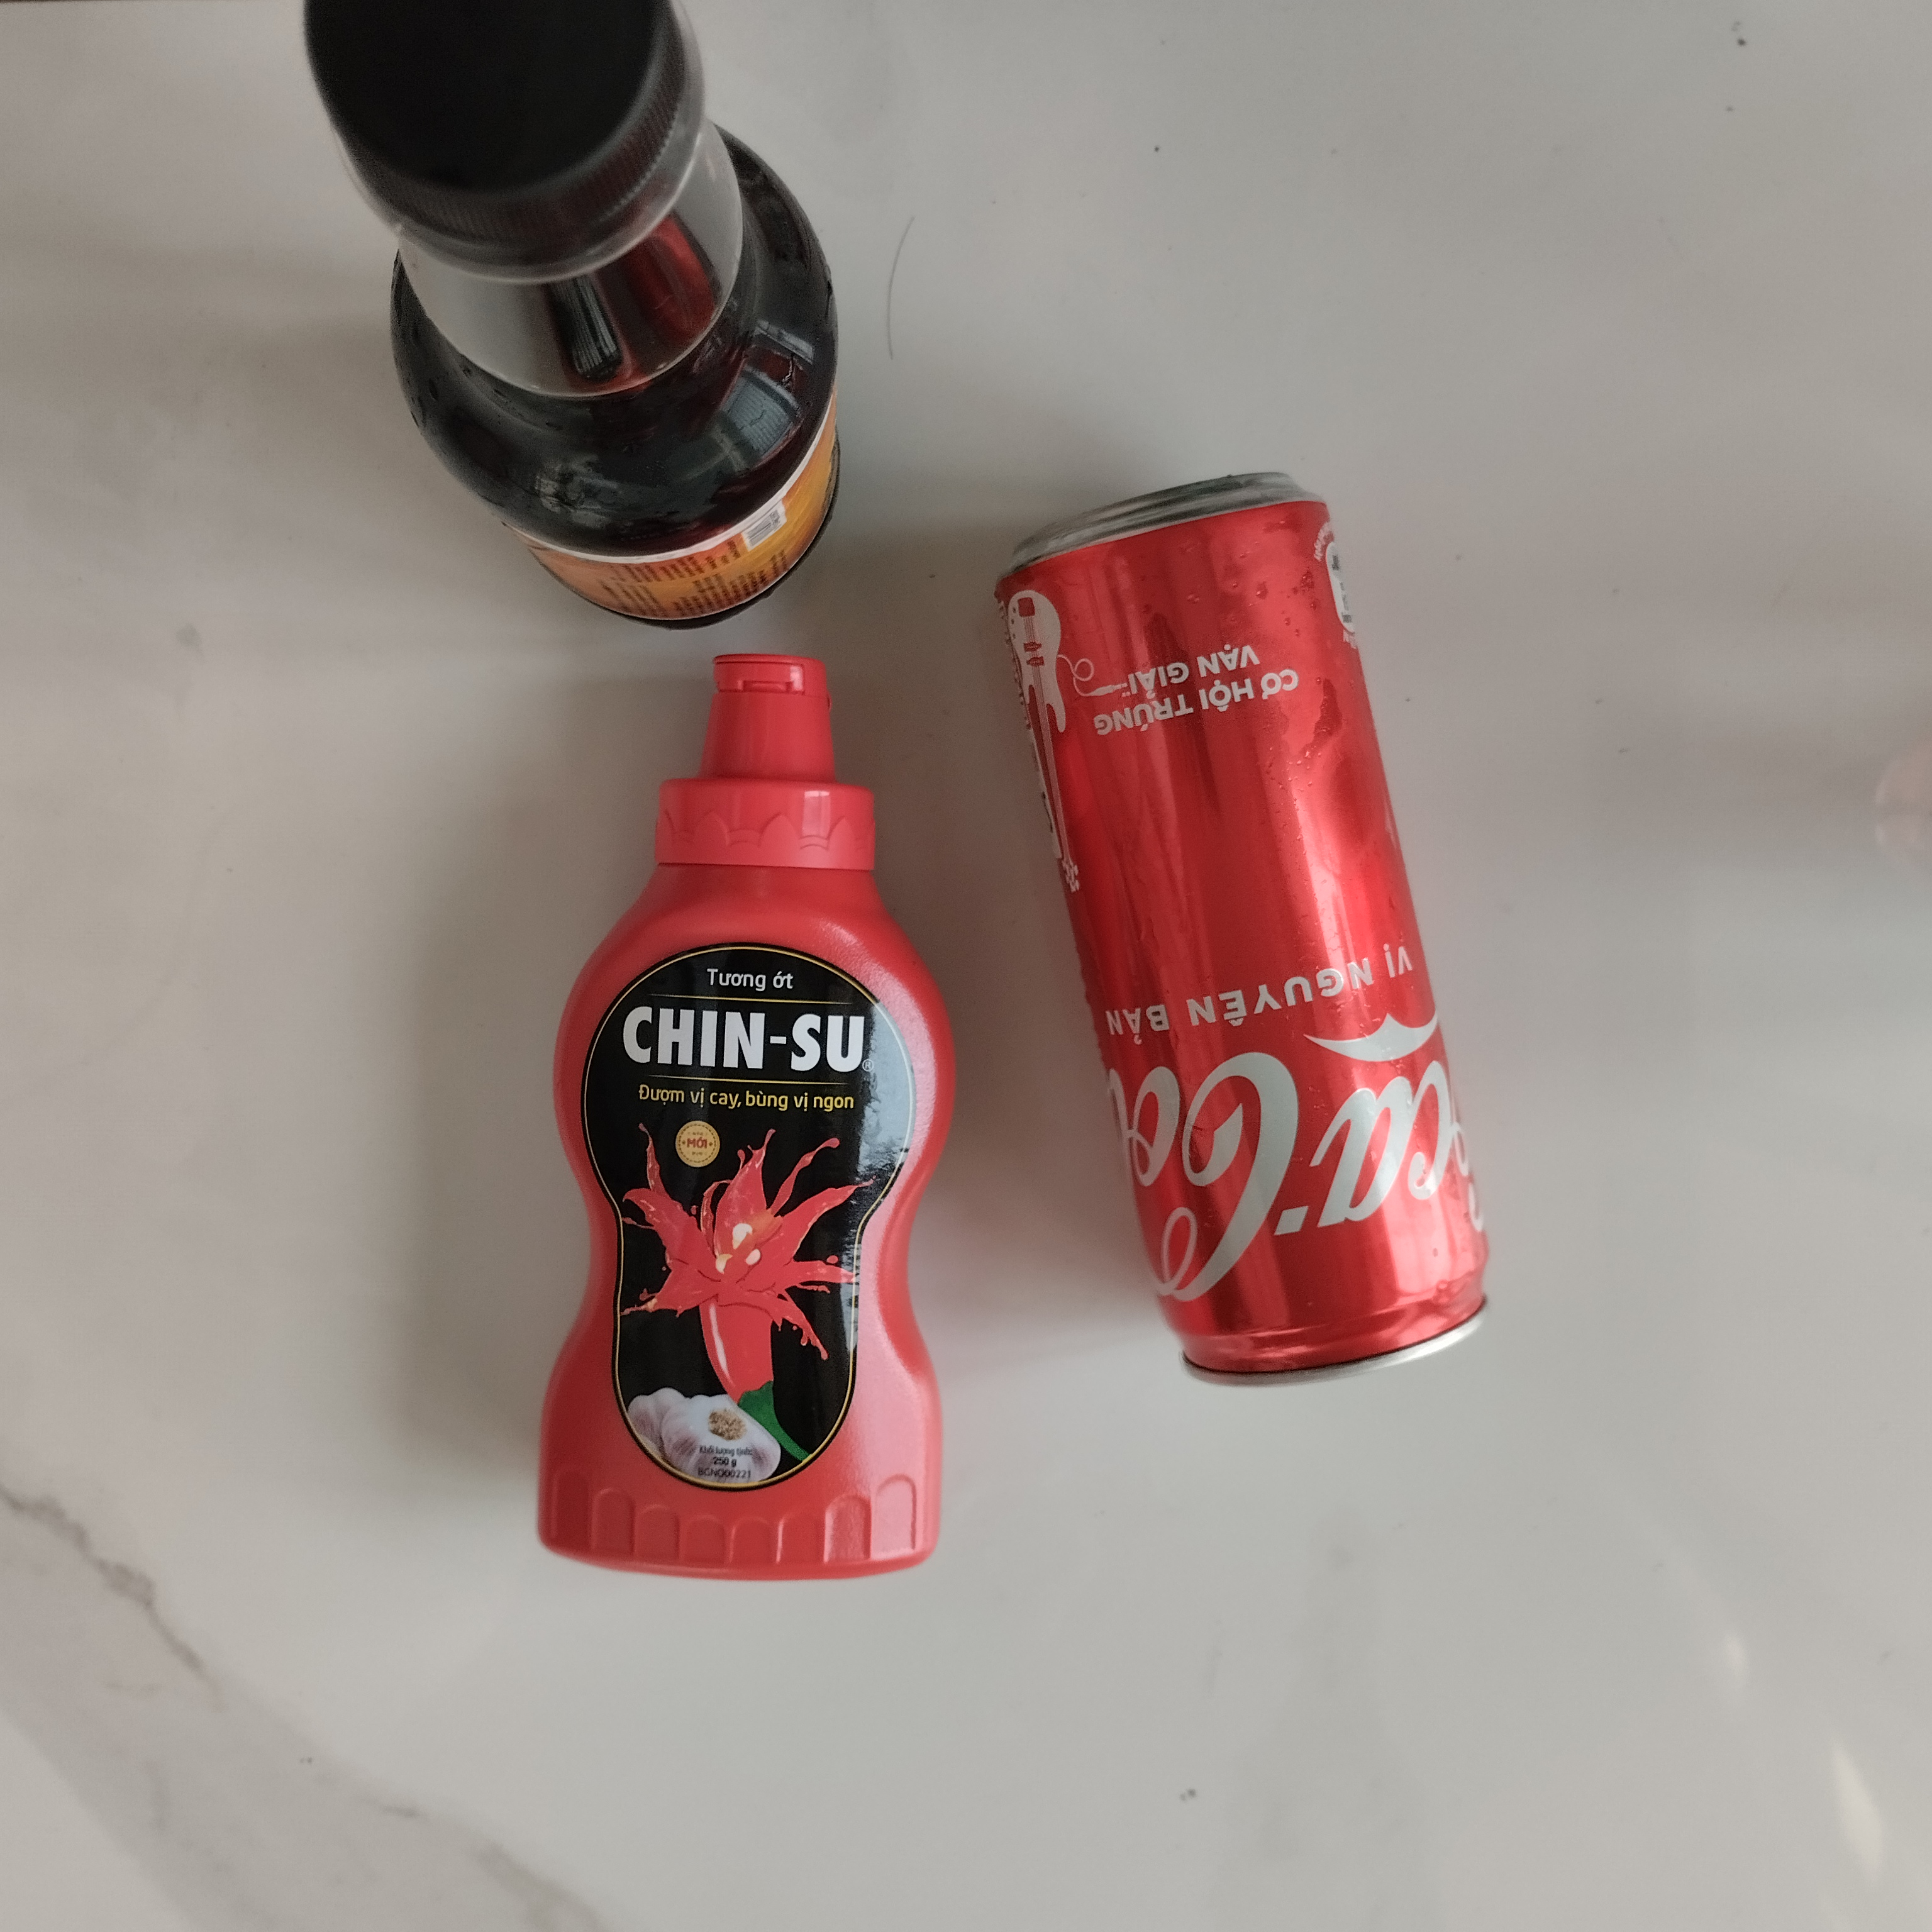247: (288, 2, 867, 628)
Chinsu: (525, 630, 998, 1610)
Coca: (968, 465, 1506, 1407)
